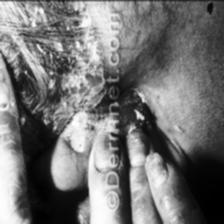Non-Cancerous Skin Condition: (1, 0, 99, 155), (120, 38, 180, 178)
